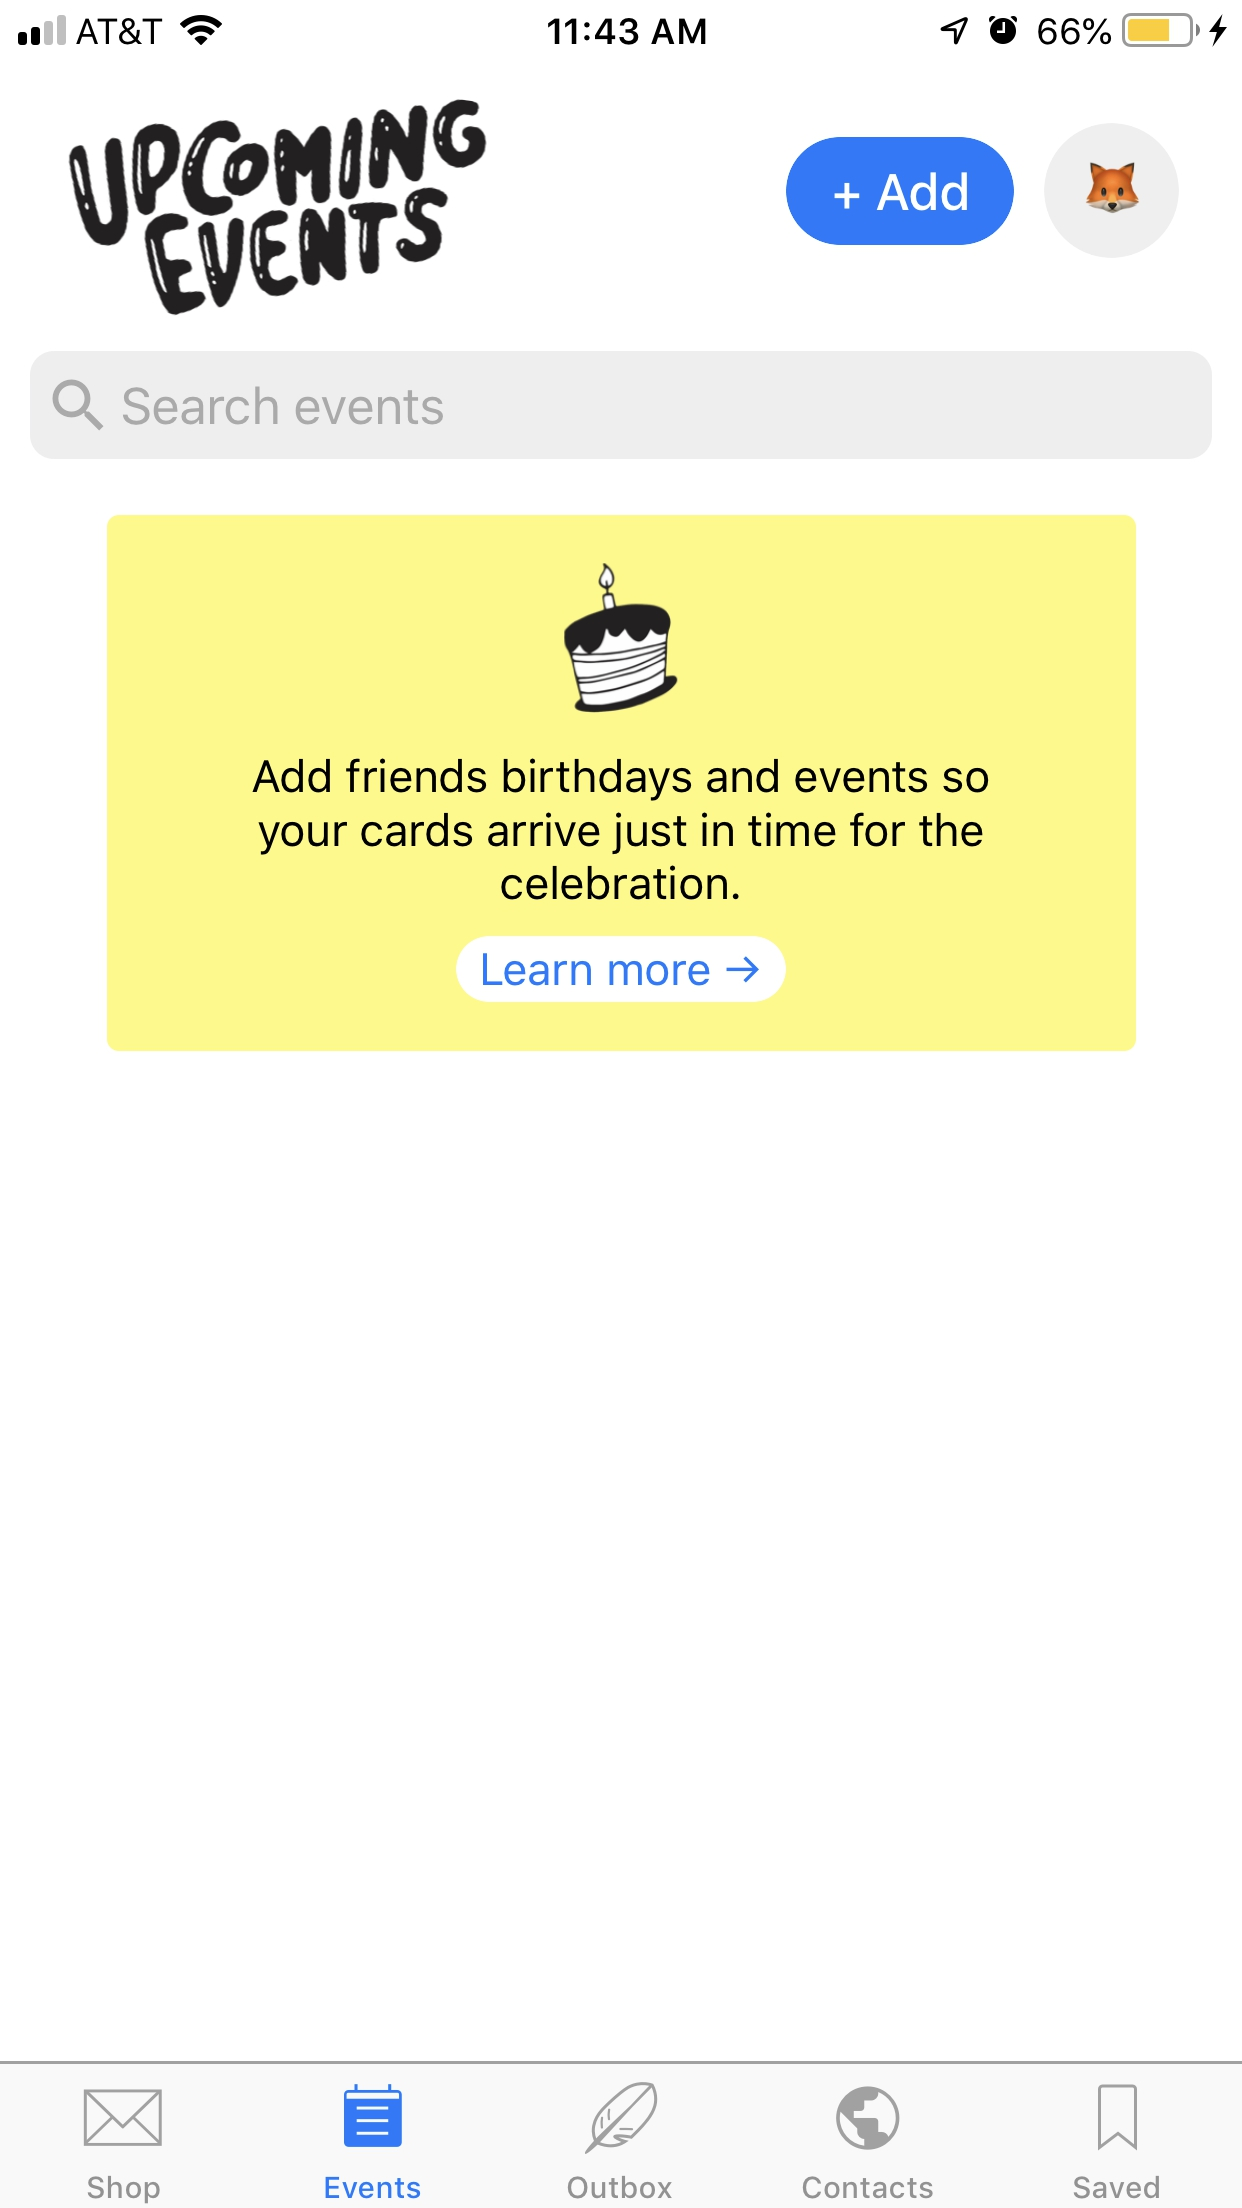EditText: (30, 350, 1213, 461)
Icon: (584, 2081, 658, 2153), (83, 2090, 162, 2147), (836, 2087, 901, 2150), (344, 2084, 403, 2147), (52, 379, 105, 432), (1096, 2084, 1137, 2150)
Image: (68, 99, 488, 318), (1043, 123, 1180, 259), (563, 563, 679, 714)
Text: (252, 758, 990, 902), (123, 387, 444, 426), (802, 2175, 934, 2199), (569, 2176, 673, 2200), (325, 2176, 422, 2199), (86, 2175, 161, 2203), (1074, 2175, 1160, 2199)
TextButton: (786, 136, 1015, 246), (456, 936, 787, 1004)
UpperTaskBar: (2, 2, 1242, 49)
